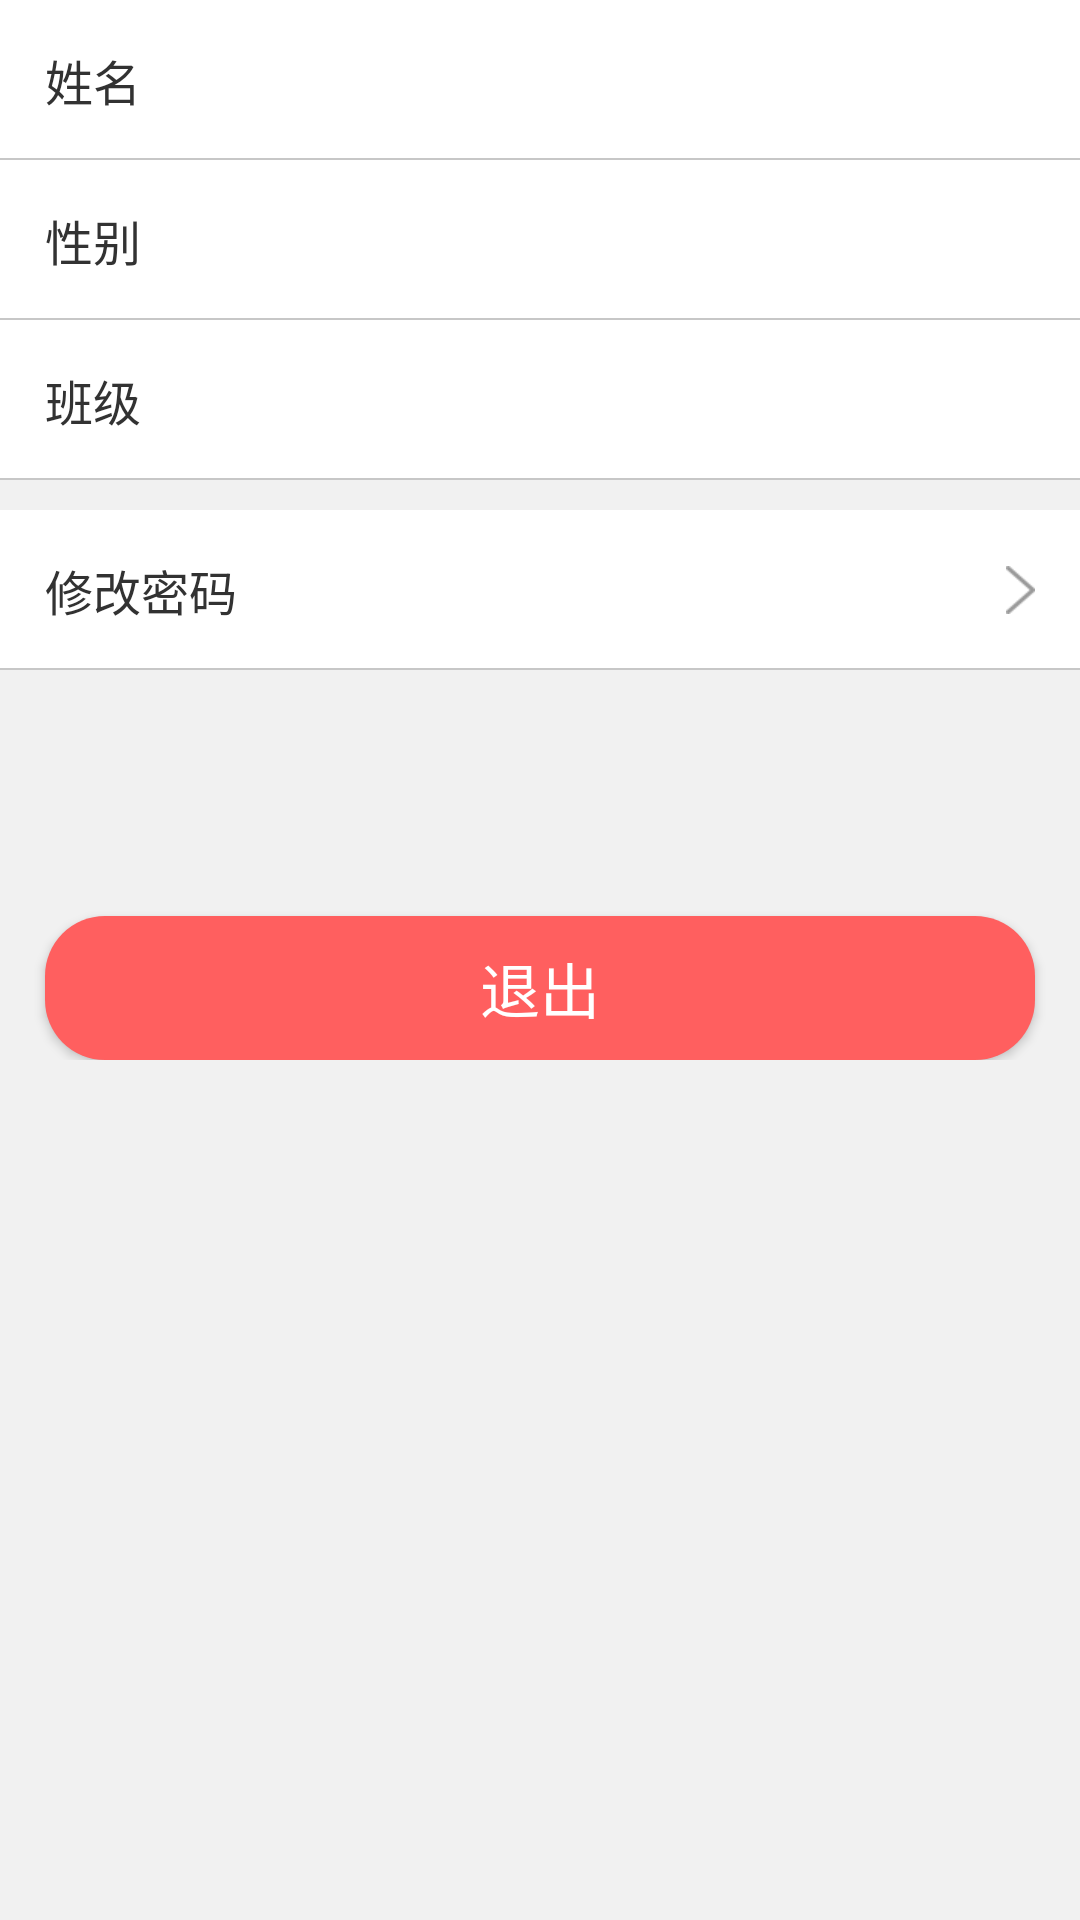

Locate icon controls on the screen. Image size 1080x1920, boxes as (x1, y1, x2, y2).
arrow: (1006, 566, 1035, 614)
